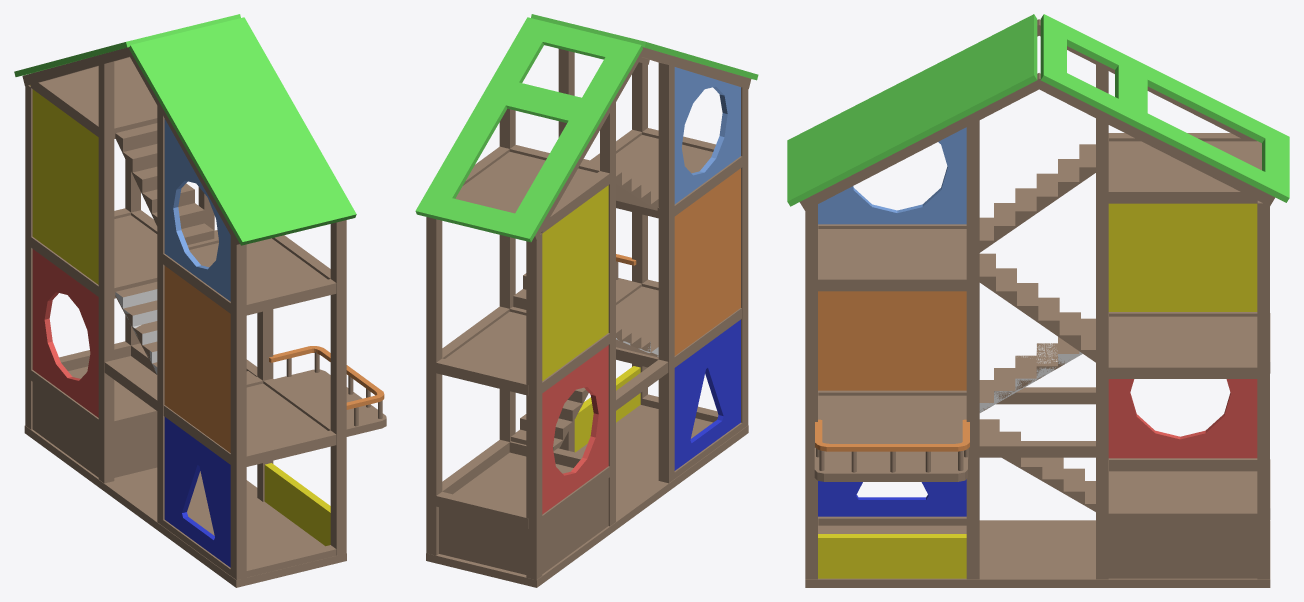
File: dollHouse.fbx
3 renders of one model, left to right at view 1: azimuth 30°, elevation 25°; view 2: azimuth 150°, elevation 25°; view 3: azimuth 270°, elevation 25°, orthographic. The views are drawn at different scales.
Parts seen in each view (by area): view 1: Cube.045, Cube.039, Cube.038, Cube.001, Cube.011, Cube.004, Cube.047, Cube.037, Cube.013, Cube.003, Cube.040, Cube.031 (+34 smaller); view 2: Cube.046, Cube.004, Cube.039, Cube.038, Cube.001, Cube.010, Cube.047, Cube.037, Cube.012, Cube.002, Cube.040, Cube.011 (+27 smaller); view 3: Cube.045, Cube.039, Cube.038, Cube.004, Cube.046, Cube.001, Cube.037, Cube.031, Cube.030, Cube.009, Cube.025, Cube.014 (+33 smaller).
Boxes of the visible parts, x1,y1,x2,y2 form: Cube.045: (129,17,356,245); Cube.039: (30,85,98,284); Cube.038: (164,266,230,452); Cube.001: (24,425,346,587); Cube.011: (98,61,114,483); Cube.004: (32,356,157,477); Cube.047: (164,417,230,567); Cube.037: (32,249,98,417); Cube.013: (230,236,246,579); Cube.003: (330,220,346,555); Cube.040: (164,119,230,301); Cube.031: (189,238,327,299); Cube.046: (415,17,642,242); Cube.004: (439,452,608,574); Cube.039: (542,185,608,380); Cube.038: (674,168,740,355); Cube.001: (426,405,748,587); Cube.010: (658,62,674,483); Cube.047: (674,319,740,470); Cube.037: (542,345,608,514); Cube.012: (526,233,542,579); Cube.002: (426,217,442,555); Cube.040: (674,67,740,203); Cube.011: (600,103,615,526); Cube.045: (787,14,1037,206); Cube.039: (1108,203,1257,311); Cube.038: (818,291,966,390); Cube.004: (1108,471,1257,578); Cube.046: (1040,14,1289,202); Cube.001: (805,520,1270,587); Cube.037: (1108,379,1257,458); Cube.031: (818,229,966,274); Cube.030: (1109,316,1257,361); Cube.009: (818,534,966,578); Cube.025: (818,395,966,440); Cube.014: (966,120,979,579).
Size of the model in its own units: 630 by 1756 by 1556.
